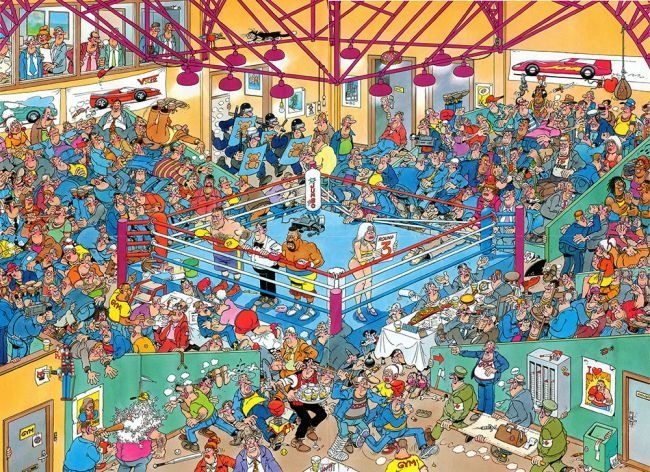waldo: (55, 344, 76, 401)
